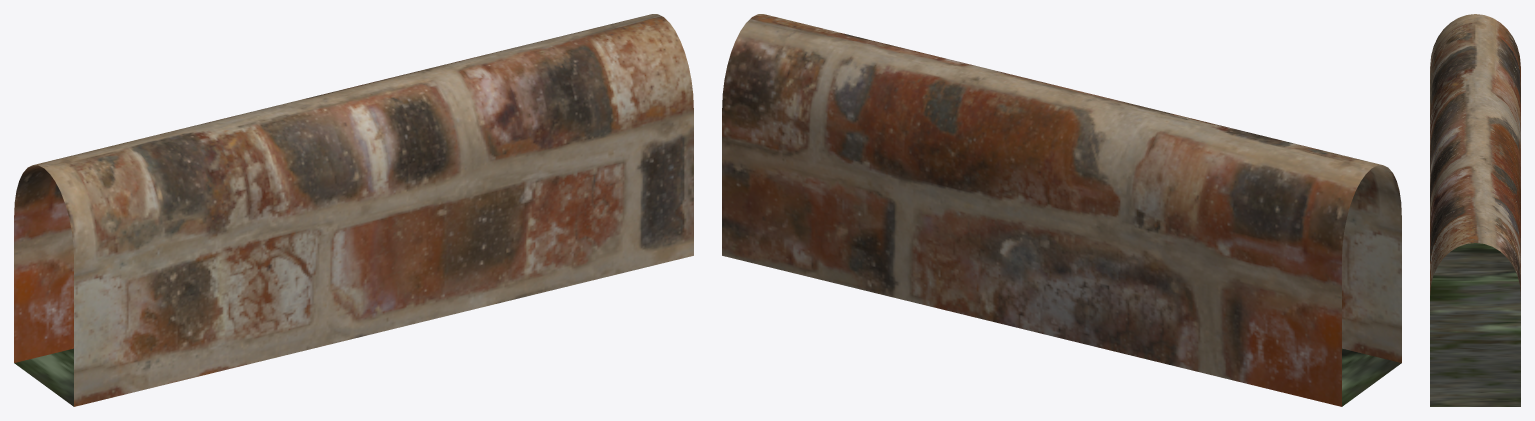
Rendered from tunnel 6m sideways.fbx.
The picture shows the model from 3 angles, left to right: view 1: azimuth 30°, elevation 25°; view 2: azimuth 150°, elevation 25°; view 3: azimuth 270°, elevation 25°; orthographic projection. The views are drawn at different scales.
Parts seen in each view (by area): view 1: tunnel 6m sideways, tunnel floor 6m sideways; view 2: tunnel 6m sideways, tunnel floor 6m sideways; view 3: tunnel 6m sideways, tunnel floor 6m sideways.
Boxes of the visible parts, x1,y1,x2,y2 form: tunnel 6m sideways: [14, 14, 693, 406]; tunnel floor 6m sideways: [14, 348, 73, 406]; tunnel 6m sideways: [722, 14, 1401, 406]; tunnel floor 6m sideways: [1342, 348, 1401, 406]; tunnel 6m sideways: [1430, 14, 1520, 294]; tunnel floor 6m sideways: [1430, 243, 1520, 406].
Size of the model in its own units: 600 by 100 by 200.
